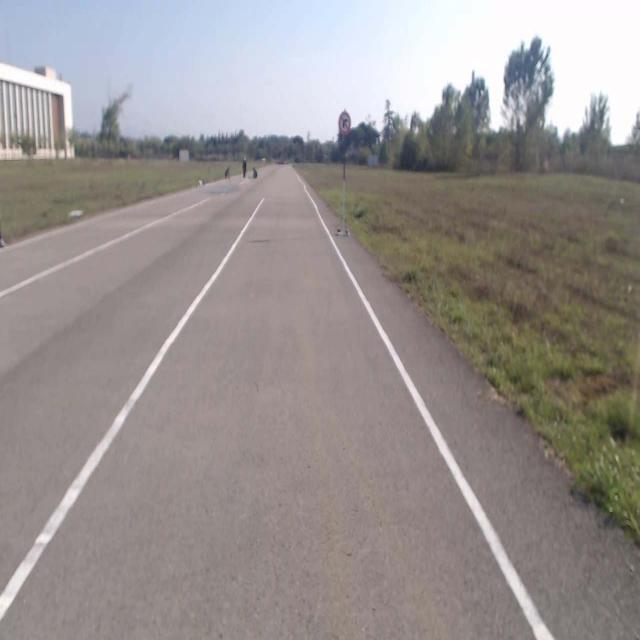sagadonulmez: (338, 111, 350, 133)
